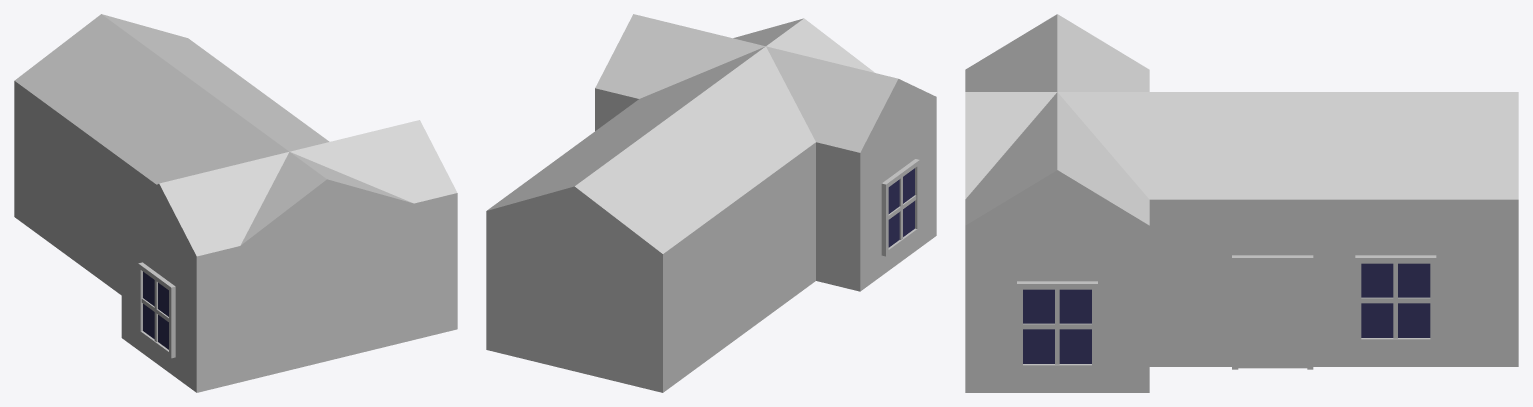
Rendered from ExportedBlenderFBXFile.fbx.
3 renders of one model, left to right at view 1: azimuth 30°, elevation 25°; view 2: azimuth 150°, elevation 25°; view 3: azimuth 270°, elevation 25°, orthographic. The views are drawn at different scales.
Parts seen in each view (by area): view 1: House; view 2: House; view 3: House.
Part boxes in pixels (x1,y1,x2,y2): House: [14, 14, 457, 392]; House: [486, 14, 936, 392]; House: [965, 14, 1518, 392].
Bounding box in the file's own units: 6.2 × 4 × 9.
